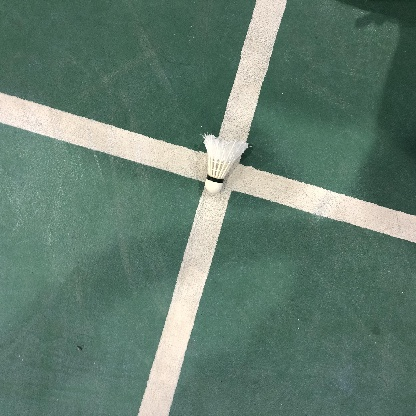ball_single: (204, 134, 248, 193)
